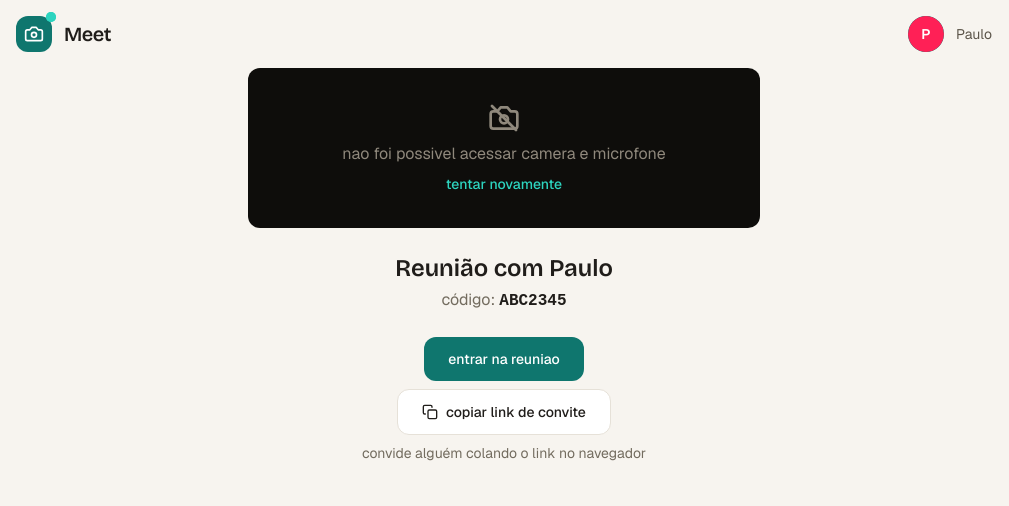
Test: RoomPage › mostra erro quando nao consegue copiar o link
Expected: the heading "Reunião com Paulo" is shown, [395,252,613,284]
Click the button "copiar link de convite".
click(504, 412)  # box [397,389,611,435]
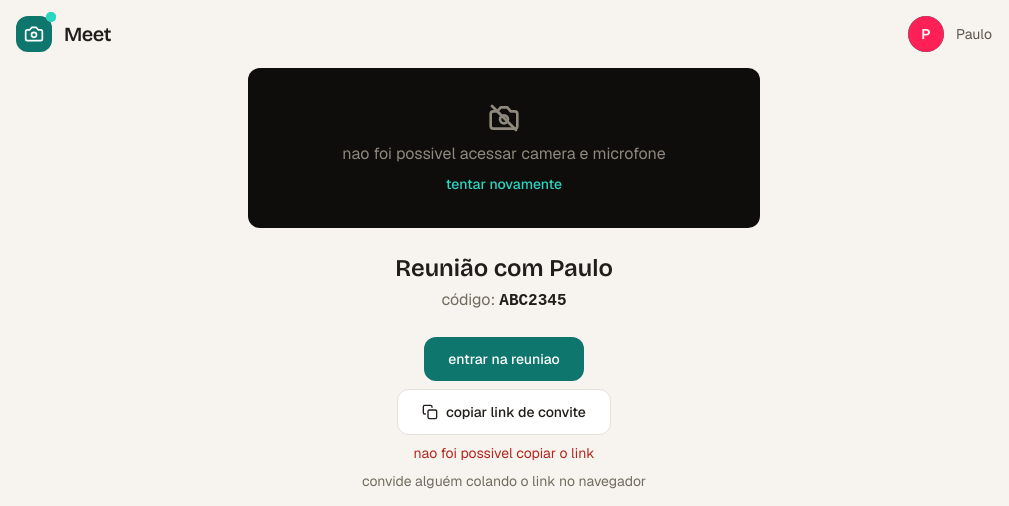
Expected: the text "nao foi possivel copiar o link" is shown, [414,443,594,463]
